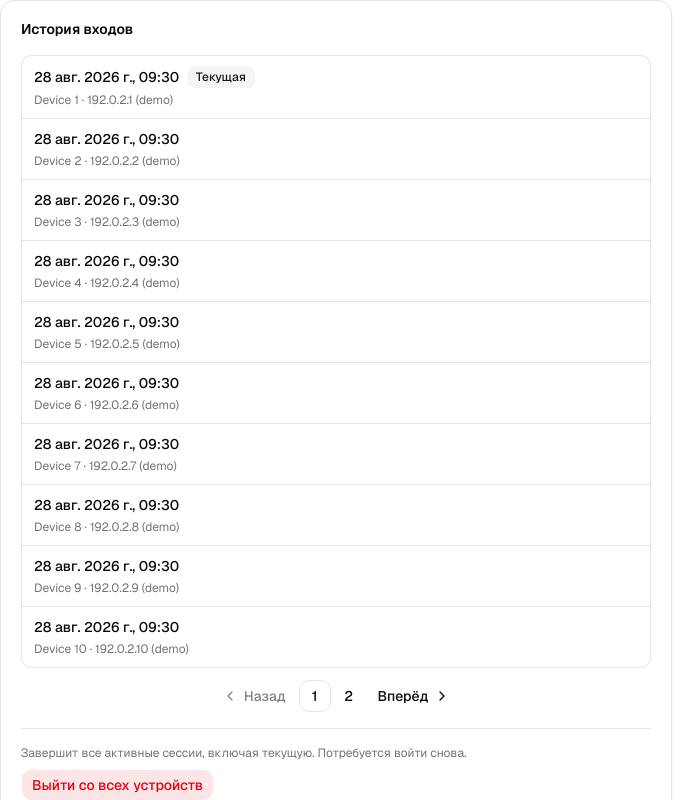
SessionsSection › paginates when there are more sessions than one page
Expected: the text "Device 1" is shown, 34,92 -> 79,108
Expected: the text "Device 11" is not shown
Click the button with aria-label "Следующая страница". click: point(412, 696)
box: 367,680 -> 457,712
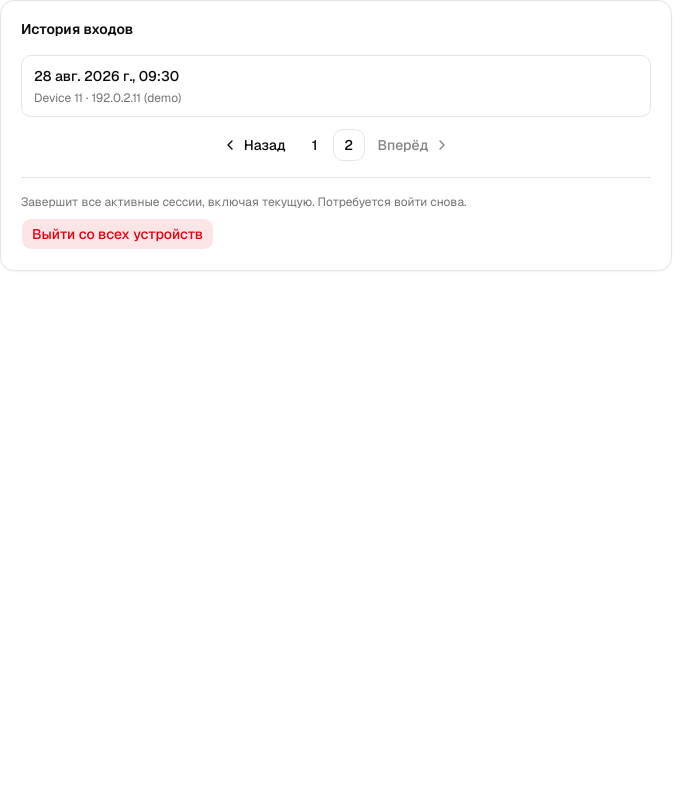
Expected: the text "Device 11" is shown, 34,90 -> 83,106
